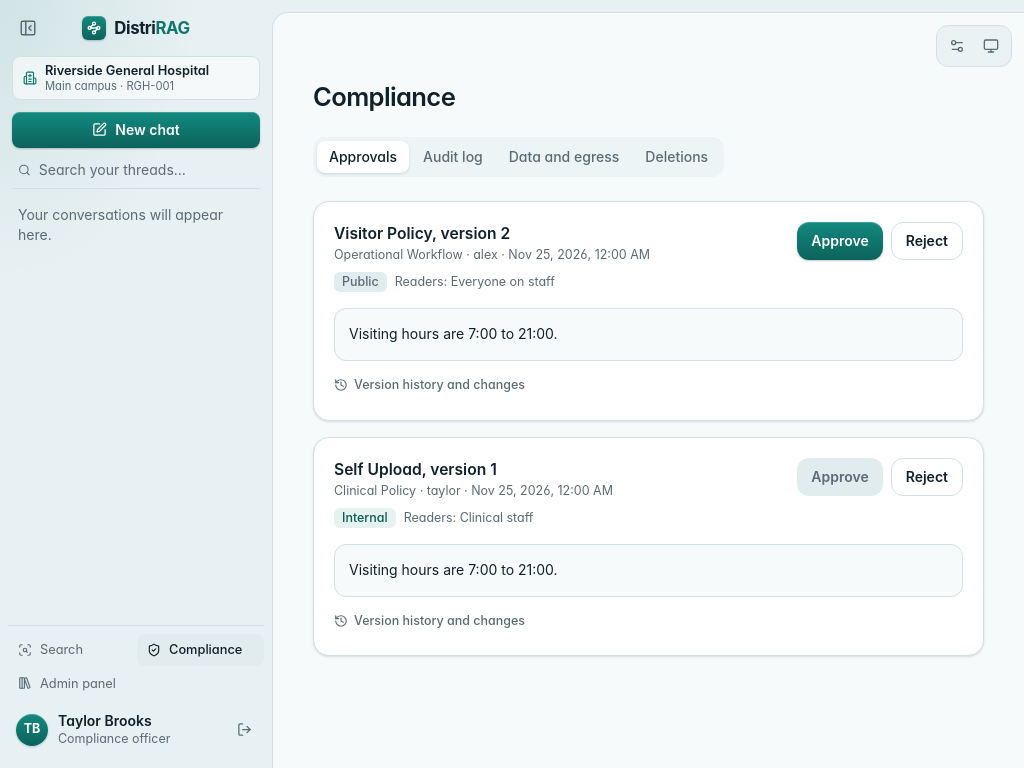
Test: approve is disabled on your own upload; reject needs a reason
Later steps or results of the test are not shown.
Expected: the button "Approve" in the row of "Self Upload" is disabled, left=797, top=458, right=883, bottom=496
Expected: the text "Visiting hours are 7:00 to 21:00." below "Public" is shown, left=349, top=325, right=558, bottom=342
Click the button "Reject" in the row of "alex": click(927, 241) left=891, top=222, right=963, bottom=260
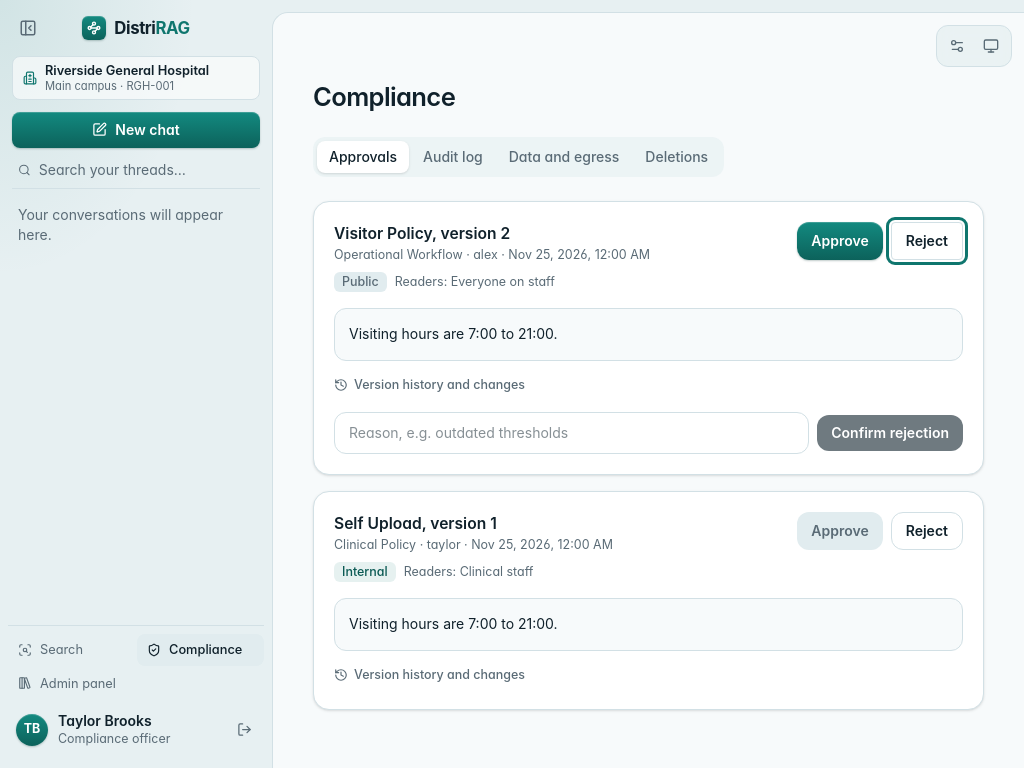
Expected: the button "Confirm rejection" is disabled, left=817, top=414, right=963, bottom=450
